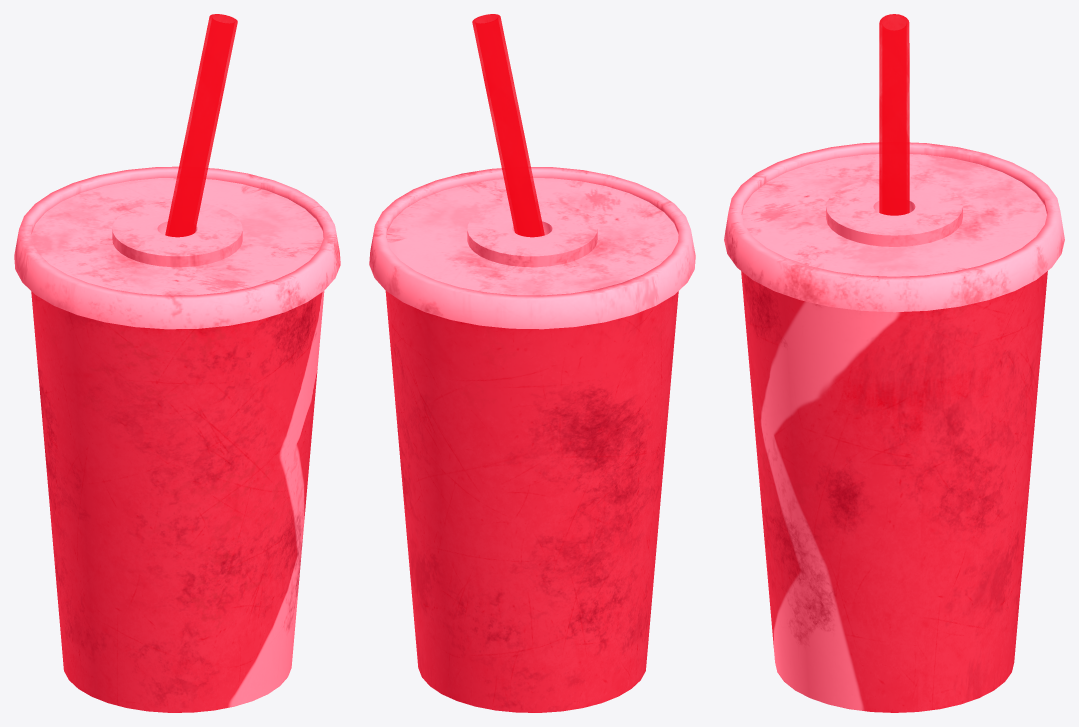
File: Cup.glb
3 renders of one model, left to right at view 1: azimuth 30°, elevation 25°; view 2: azimuth 150°, elevation 25°; view 3: azimuth 270°, elevation 25°, orthographic. The views are drawn at different scales.
Visible parts, largest first — view 1: Becher, Strohhalm; view 2: Becher, Strohhalm; view 3: Becher, Strohhalm.
Part boxes in pixels (x1,y1,x2,y2): Becher: (14,166,340,712); Strohhalm: (165,14,237,237); Becher: (369,167,695,712); Strohhalm: (472,14,544,237); Becher: (724,142,1064,712); Strohhalm: (879,14,909,215).
Size of the model in its own units: 0.0636 by 0.1364 by 0.0633.
2 materials, 2 textured.
